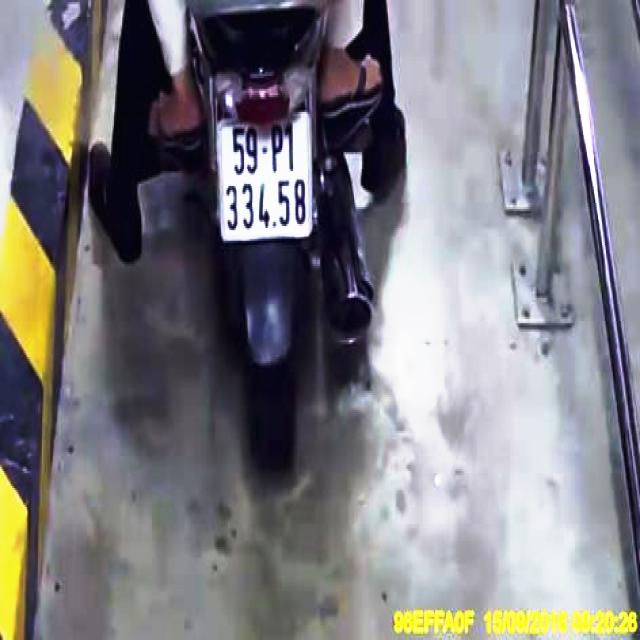license_plate: (220, 112, 314, 241)
